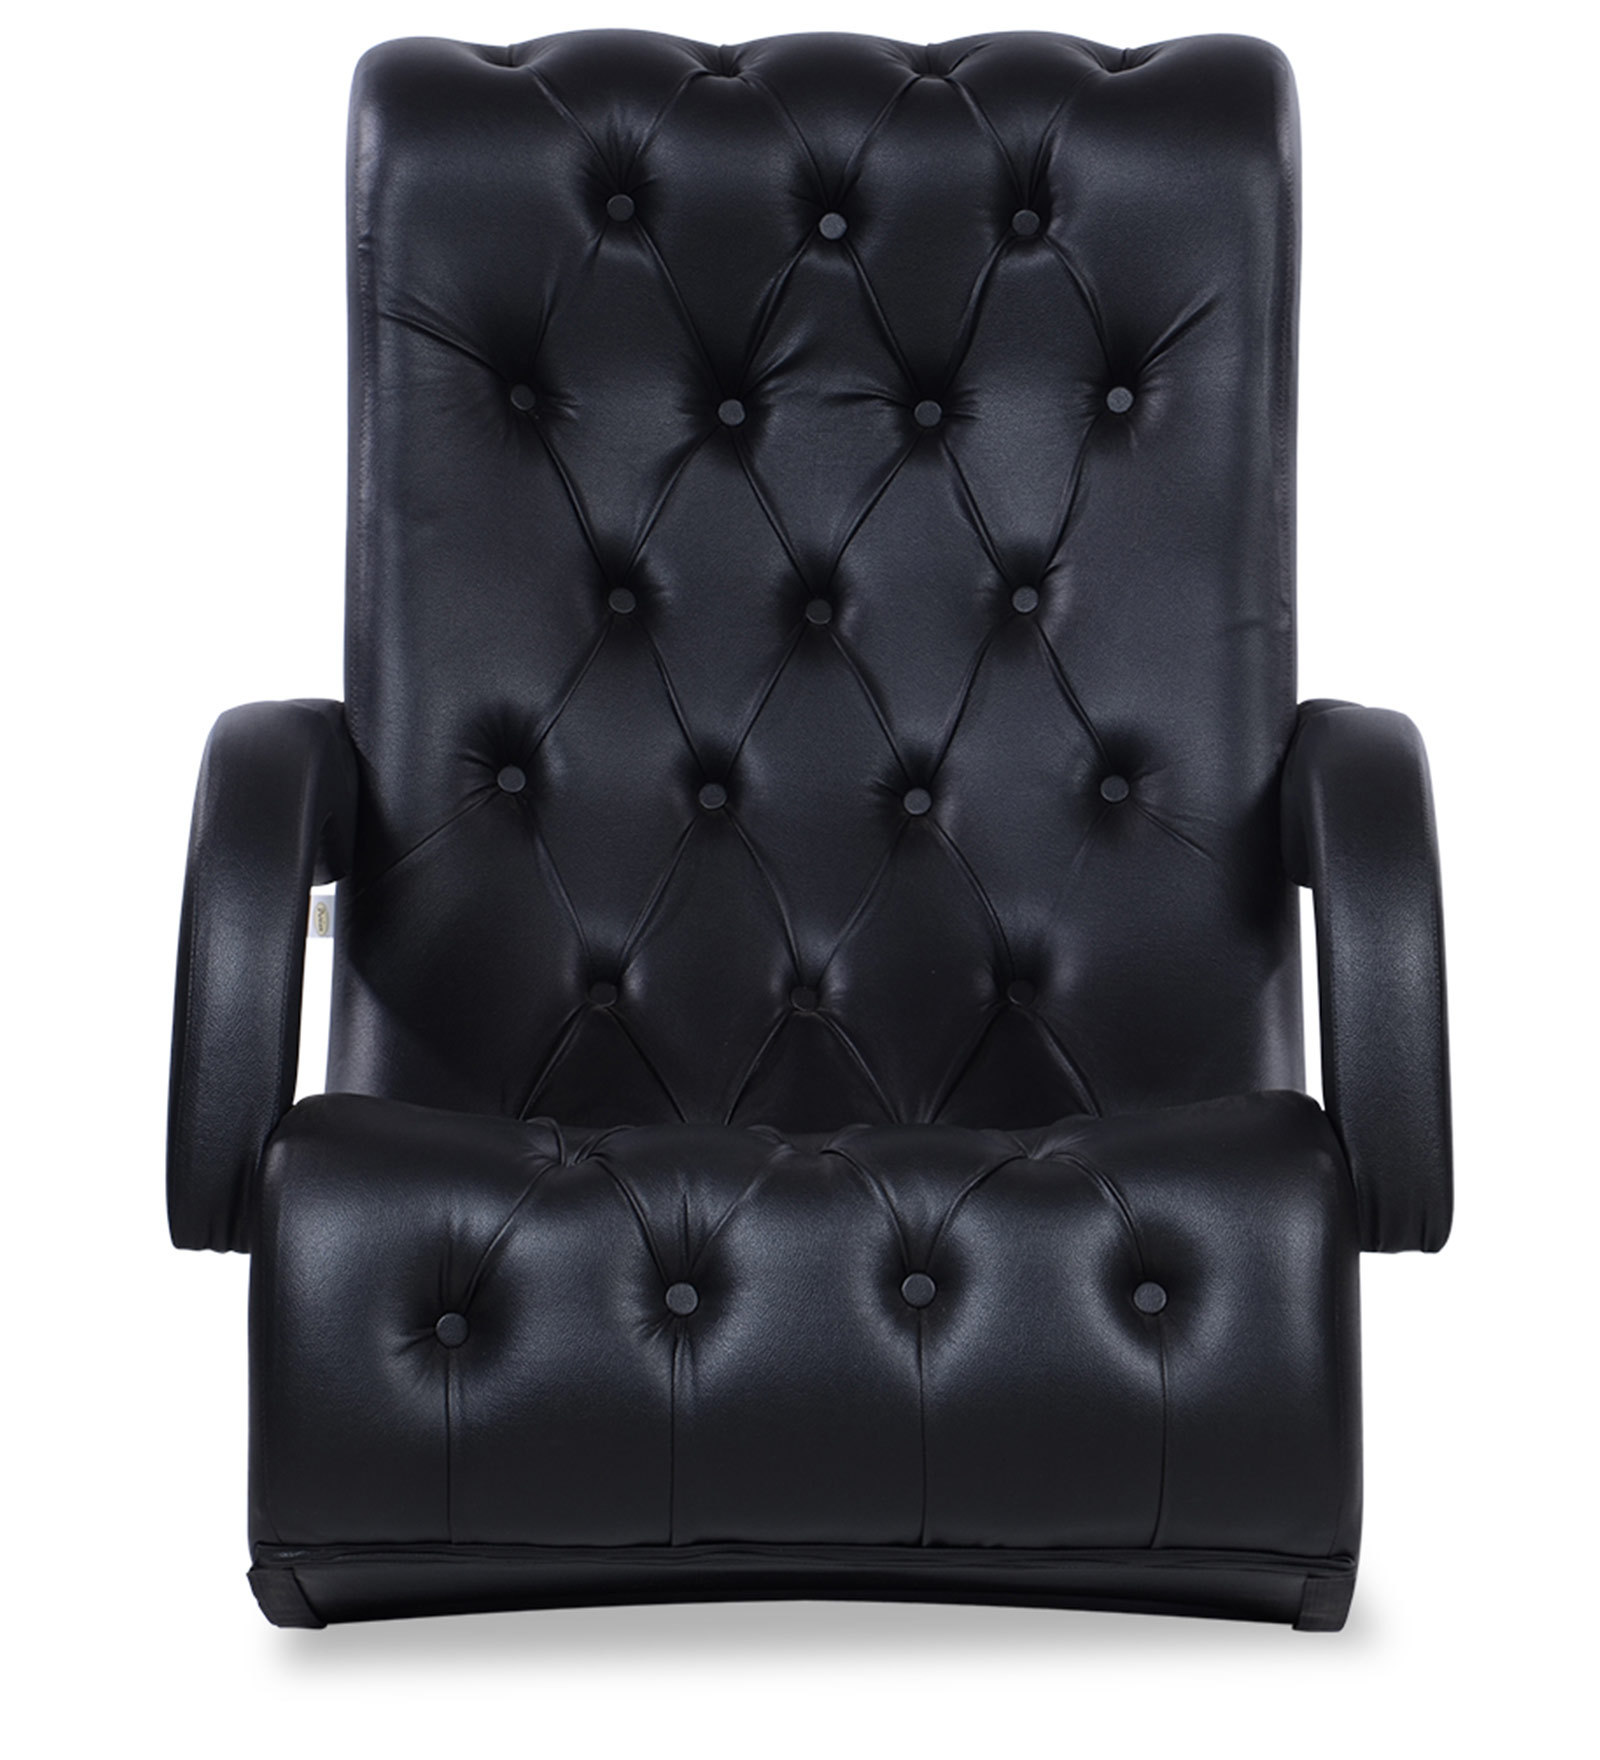Low Seat Rocking Chair with Arm Rest in Black Leatherette by Durian: (170, 17, 1462, 1650)
